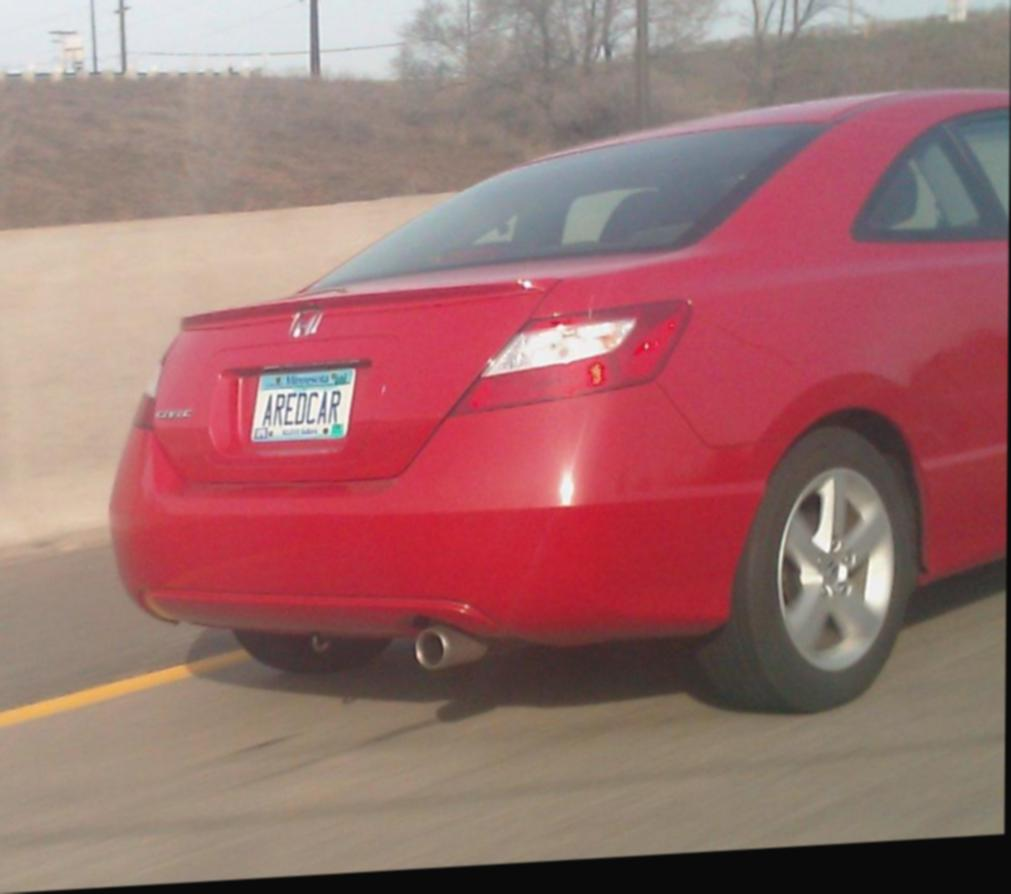License_Plate: (245, 357, 381, 463)
